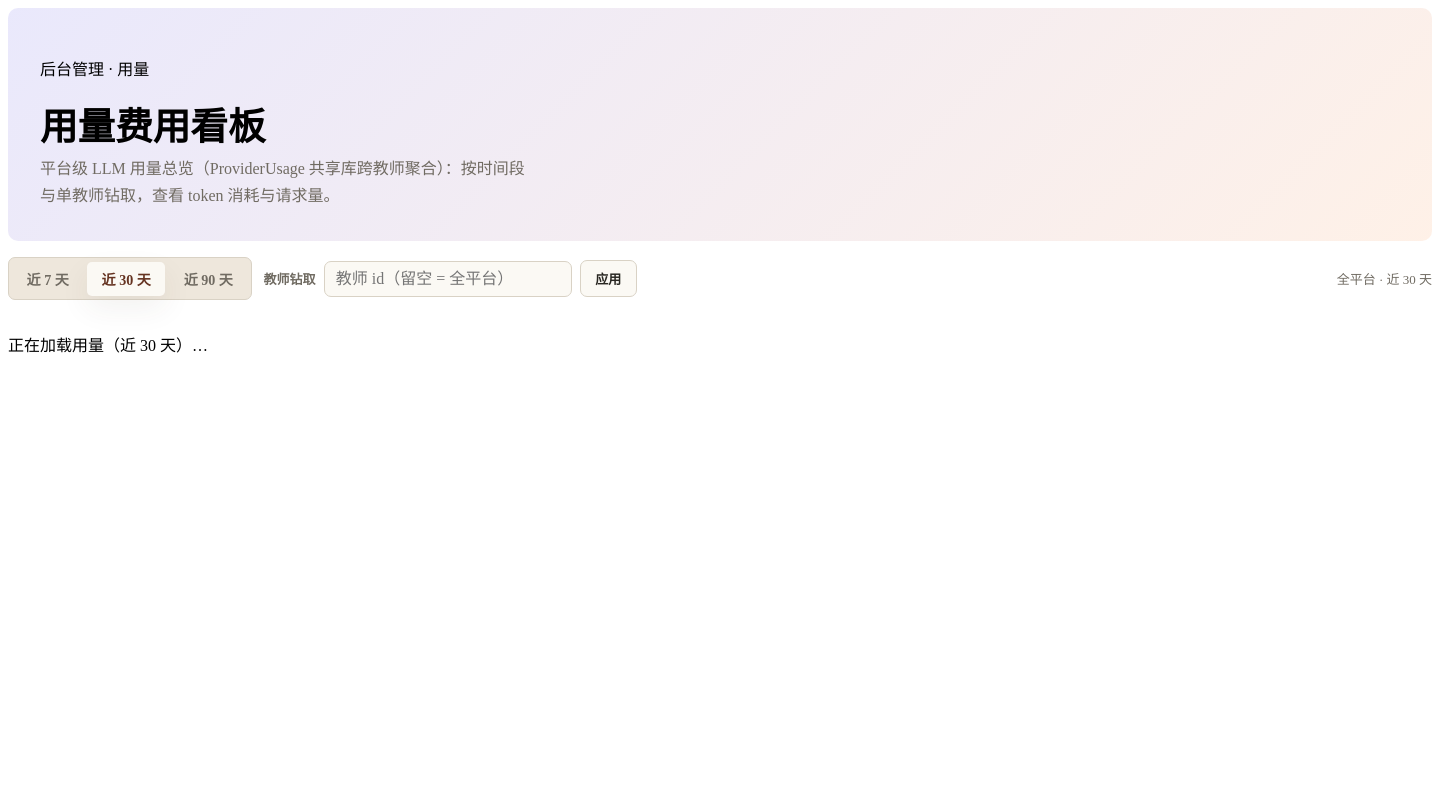
AdminUsagePage（/admin/usage 平台级用量费用看板） › 时段切换：7d/90d 重算 from/to（span = days）
Expected: the text "全平台 · 近 30 天" is shown, [1337,269,1432,288]
Click the button "近 7 天" at (48, 279), box [12,262,83,296]
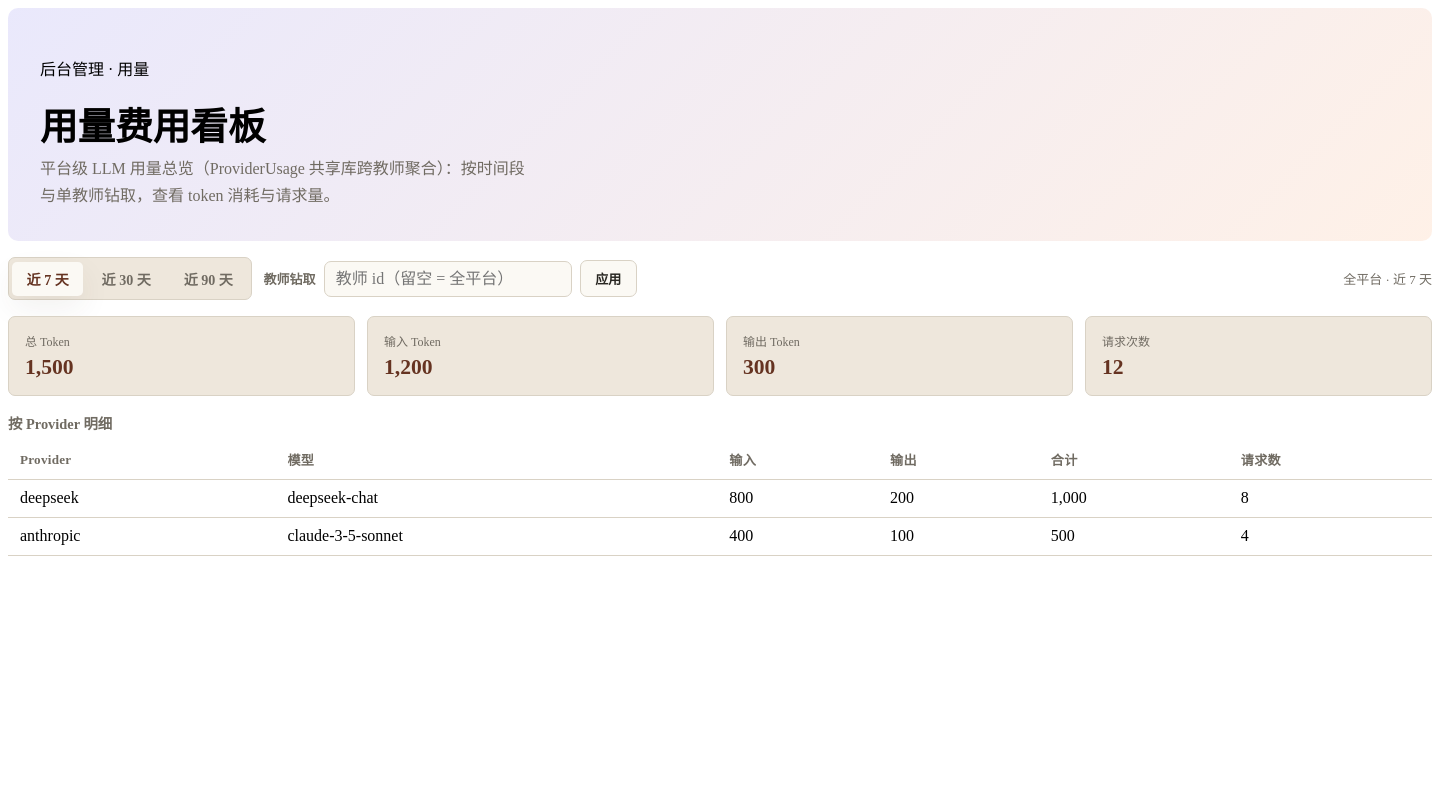
Expected: the text "全平台 · 近 7 天" is shown, [1343,269,1432,288]
Click the button "近 90 天" at (208, 279), box [169,262,247,296]
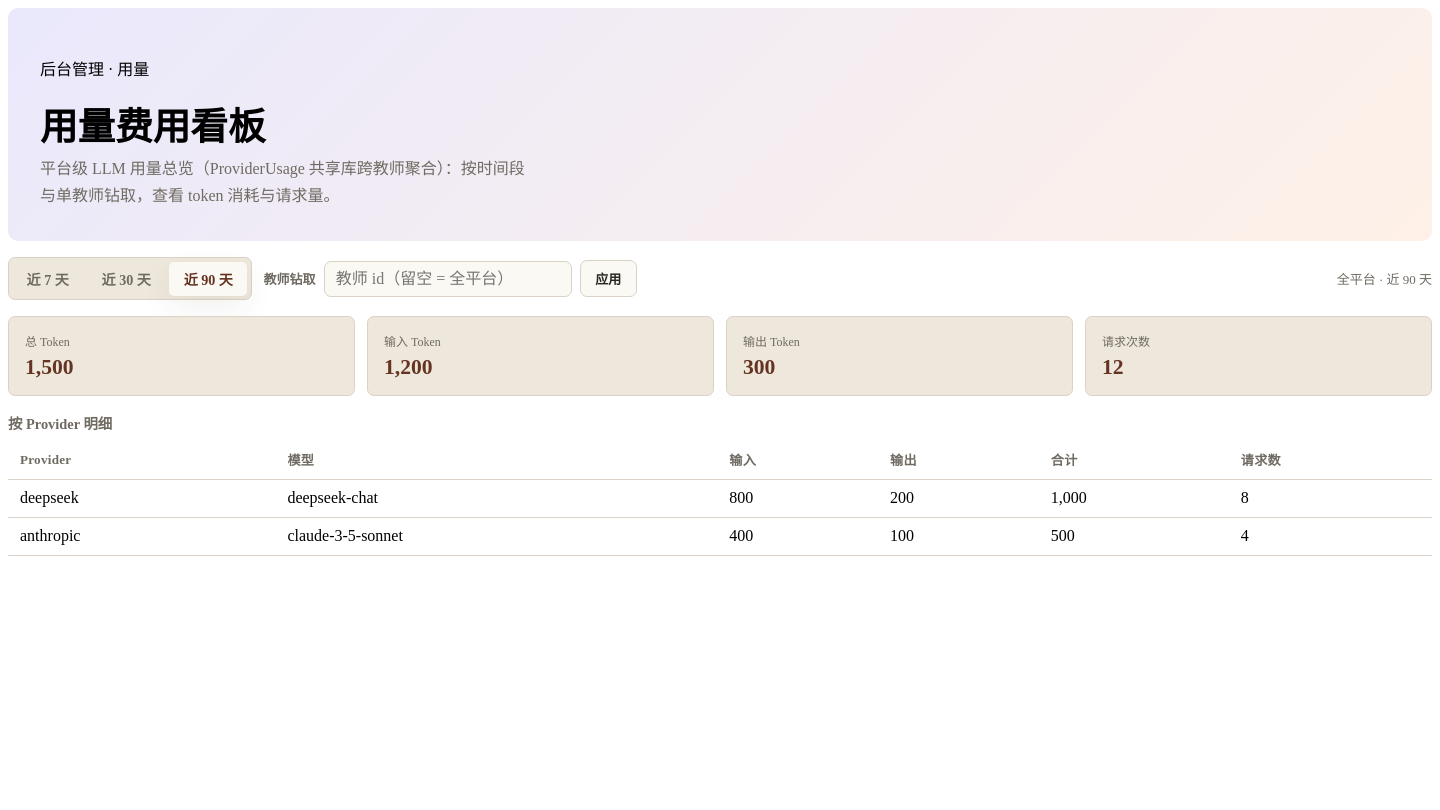
Expected: the text "全平台 · 近 90 天" is shown, [1337,269,1432,288]
